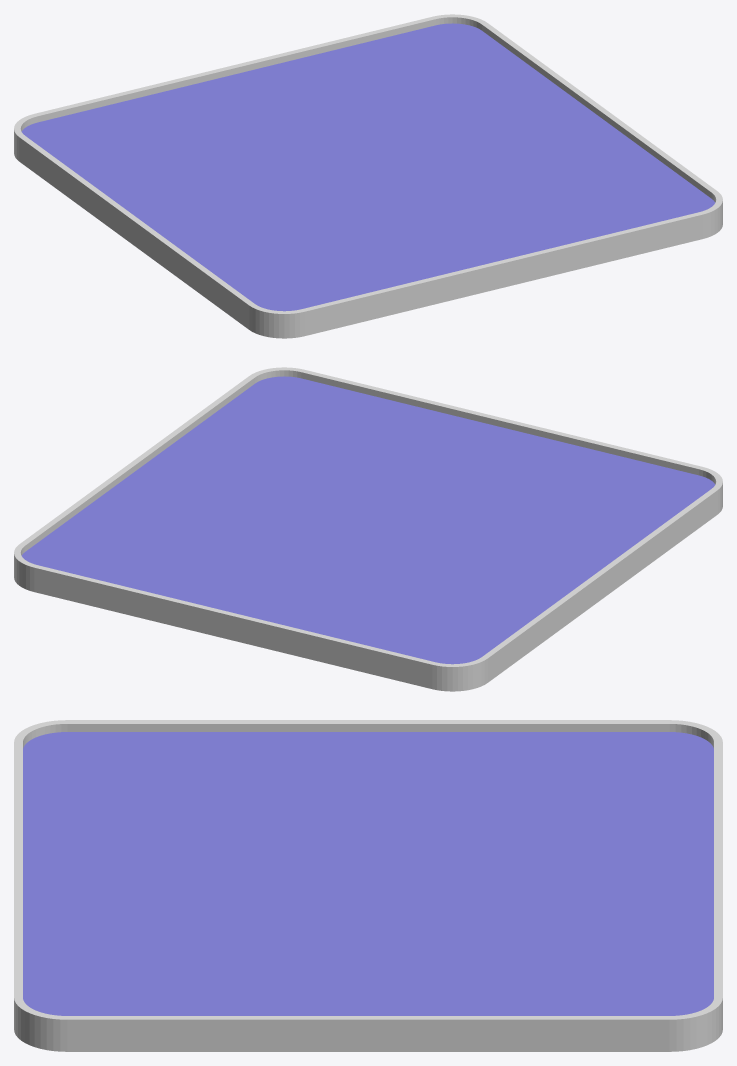
Rendered from Panel.fbx.
3 views of the same model, one above another, from view 1: azimuth 30°, elevation 25°; view 2: azimuth 150°, elevation 25°; view 3: azimuth 270°, elevation 25° (orthographic). The views are drawn at different scales.
Parts seen in each view (by area): view 1: Panel; view 2: Panel; view 3: Panel.
Part boxes in pixels (<box>): Panel: <box>14,14,722,338</box>; Panel: <box>14,367,722,691</box>; Panel: <box>14,720,722,1051</box>.
Bounding box in the file's own units: 200 × 10 × 200.
